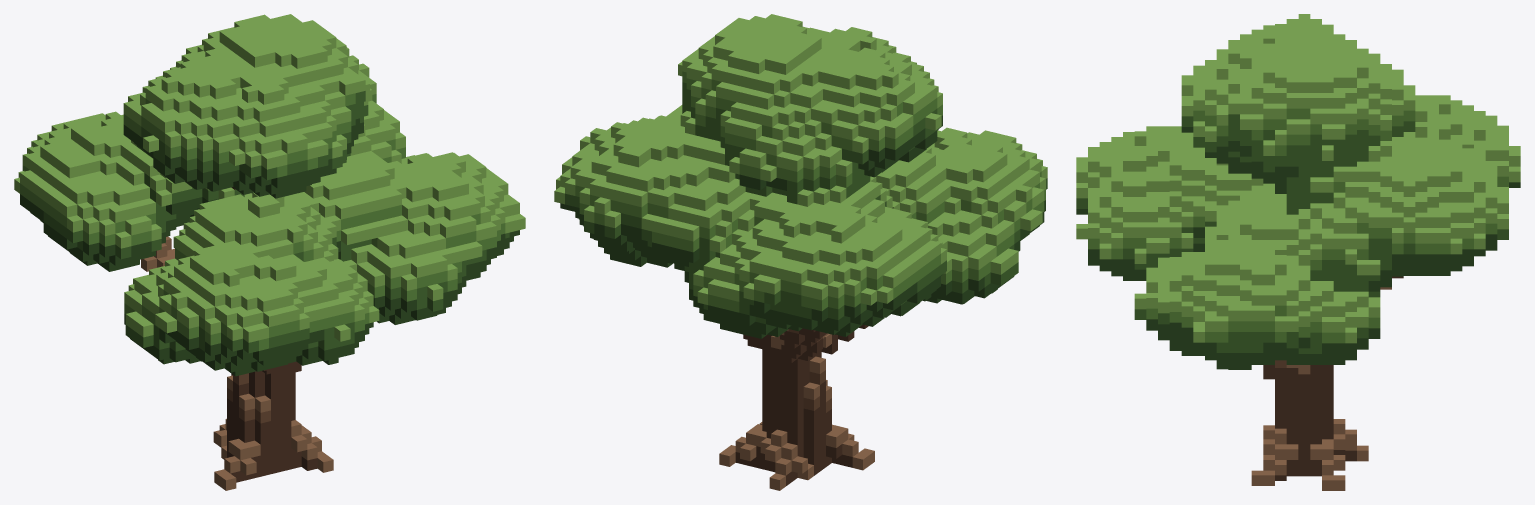
Rendered from SM_Oak_A.fbx.
3 views of the same model, side by side, from view 1: azimuth 30°, elevation 25°; view 2: azimuth 150°, elevation 25°; view 3: azimuth 270°, elevation 25° (orthographic). The views are drawn at different scales.
Visible parts, largest first — view 1: SM_Oak_A; view 2: SM_Oak_A; view 3: SM_Oak_A.
Part boxes in pixels (x1,y1,x2,y2): SM_Oak_A: (14,14,525,490); SM_Oak_A: (554,14,1047,490); SM_Oak_A: (1076,14,1520,490).
Bounding box in the file's own units: 3.7 × 3.9 × 3.8.
Materials: 1 (1 with a texture image).
